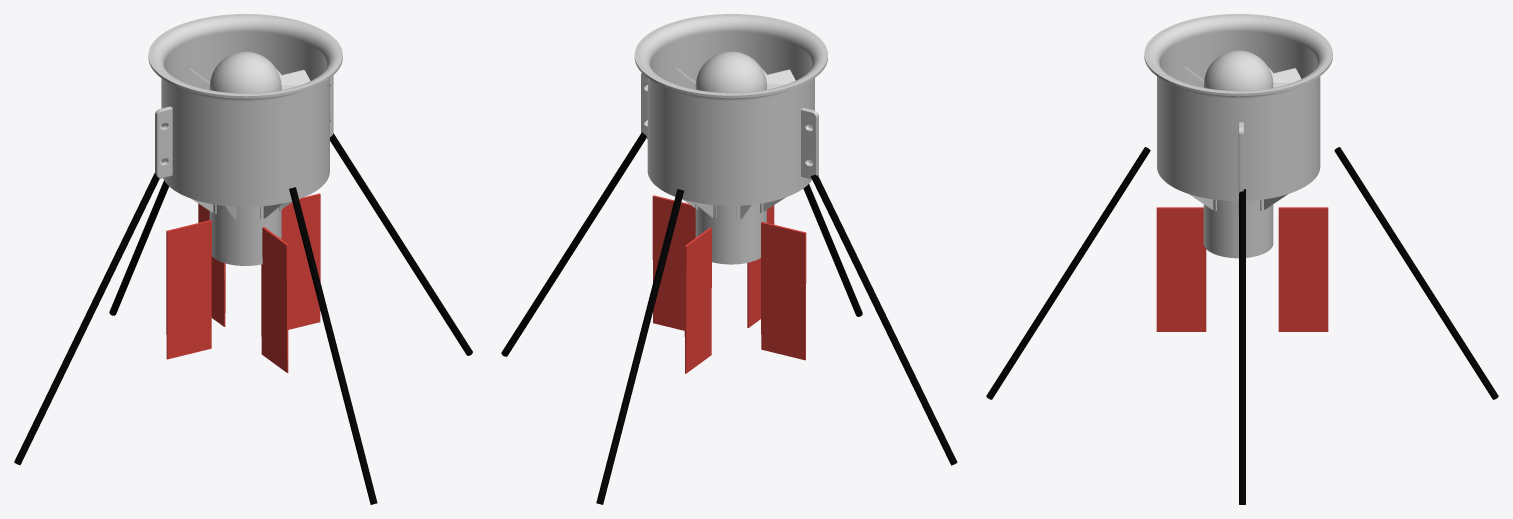
File: usd_v1.fbx
3 renders of one model, left to right at view 1: azimuth 30°, elevation 25°; view 2: azimuth 150°, elevation 25°; view 3: azimuth 270°, elevation 25°, orthographic. The views are drawn at different scales.
Parts seen in each view (by area): view 1: edf, Legs, Fin_2, Fin_1, Fin_4, Fin_3; view 2: edf, Legs, Fin_2, Fin_1, Fin_3, Fin_4; view 3: edf, Legs, Fin_3, Fin_4.
Boxes of the visible parts, x1,y1,x2,y2 form: edf: (148, 14, 342, 265); Legs: (14, 133, 472, 504); Fin_2: (166, 220, 211, 359); Fin_1: (281, 193, 320, 329); Fin_4: (261, 227, 288, 372); Fin_3: (198, 203, 225, 326); edf: (634, 14, 827, 264); Legs: (501, 132, 957, 504); Fin_2: (761, 221, 806, 360); Fin_1: (652, 195, 695, 330); Fin_3: (684, 227, 711, 373); Fin_4: (747, 205, 774, 327); edf: (1144, 14, 1332, 258); Legs: (986, 147, 1498, 504); Fin_3: (1278, 207, 1328, 331); Fin_4: (1156, 207, 1206, 331).
Bounding box in the file's own units: 29.44 × 21.9 × 29.44.
